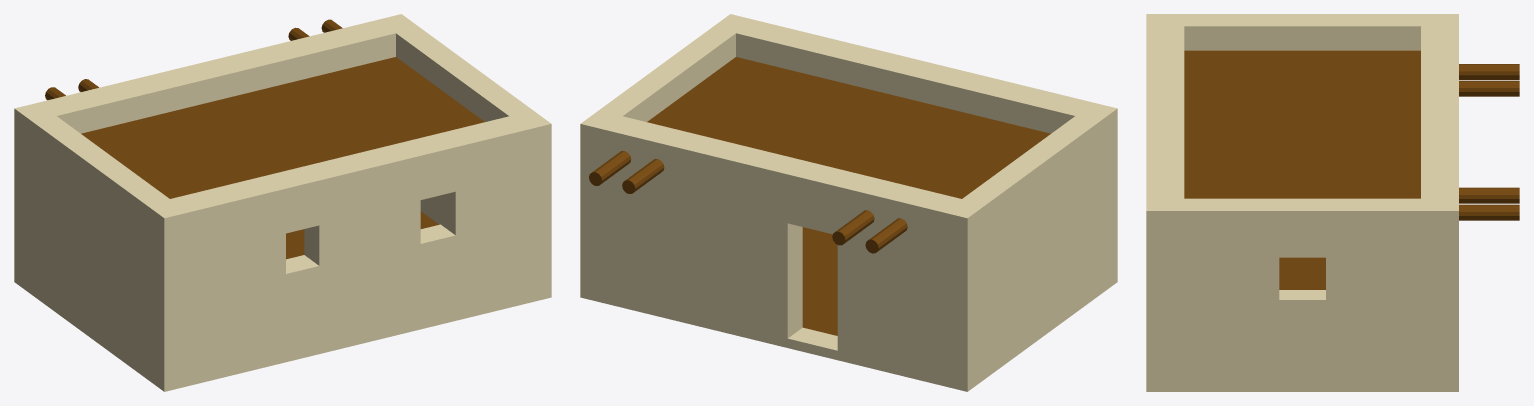
The model's file is shoe_box.glb.
The picture shows the model from 3 angles, left to right: view 1: azimuth 30°, elevation 25°; view 2: azimuth 150°, elevation 25°; view 3: azimuth 270°, elevation 25°; orthographic projection. The views are drawn at different scales.
Visible parts, largest first — view 1: shoe_box; view 2: shoe_box; view 3: shoe_box.
Part boxes in pixels (left/top/right/bottom): shoe_box: left=14, top=14, right=551, bottom=391; shoe_box: left=580, top=14, right=1117, bottom=391; shoe_box: left=1146, top=14, right=1519, bottom=391.
Size of the model in its own units: 7 by 3 by 5.61.
